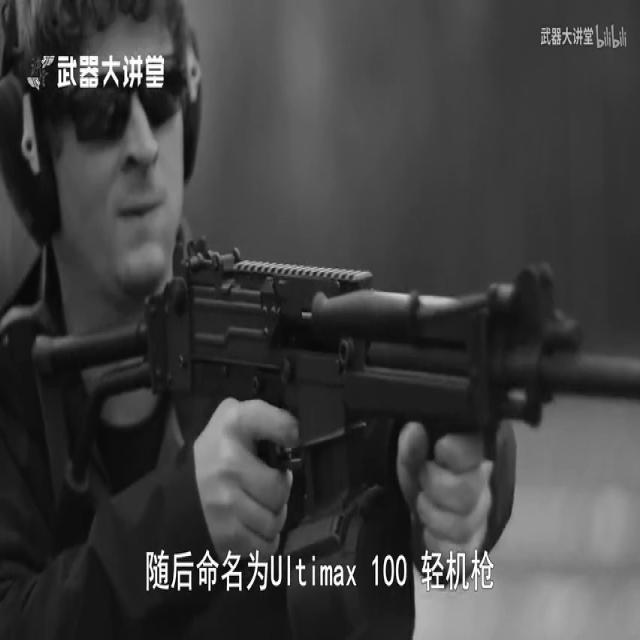Sniper: (0, 201, 640, 640)
